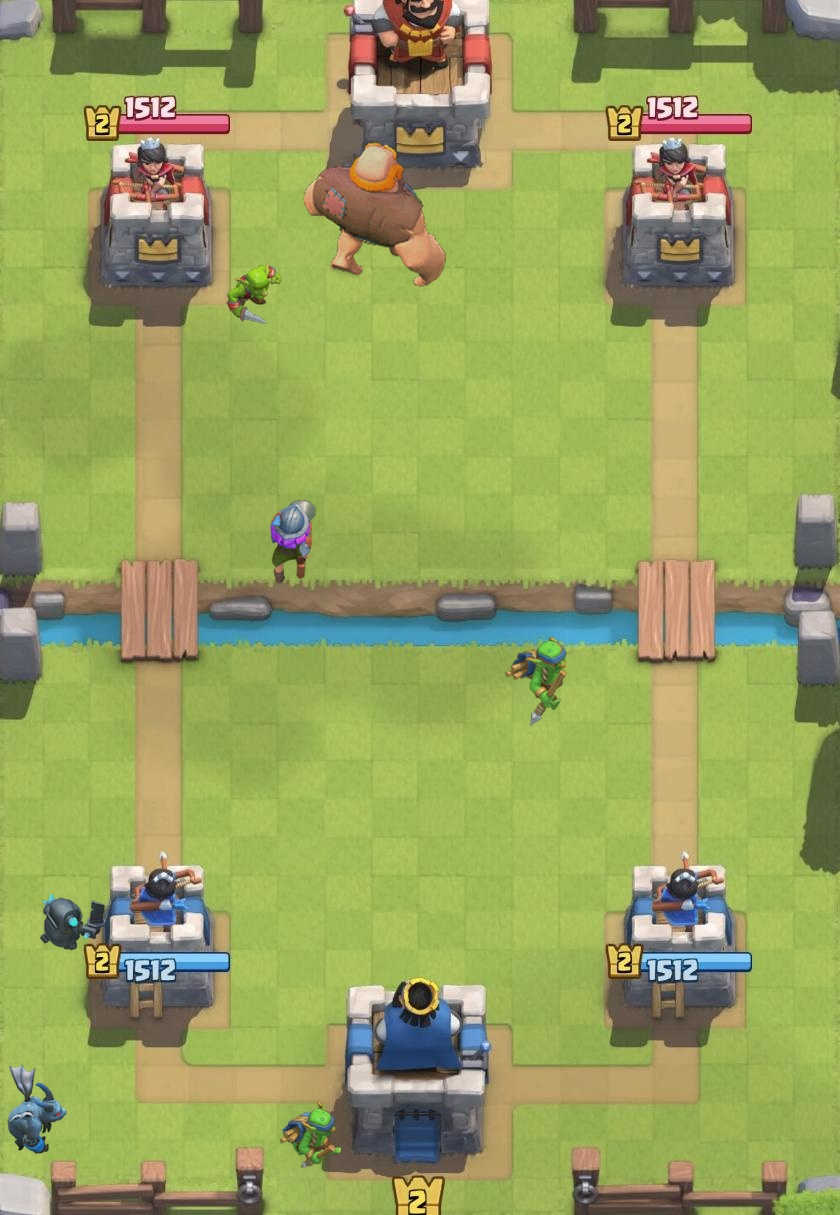giant_enemy: (303, 141, 447, 287)
goblin_enemy: (226, 263, 282, 324)
mekka_ally: (40, 893, 106, 951)
minion_ally: (7, 1064, 67, 1154)
musketeer_ally: (270, 499, 316, 584)
spoblin_ally: (505, 636, 567, 726), (279, 1100, 342, 1168)
